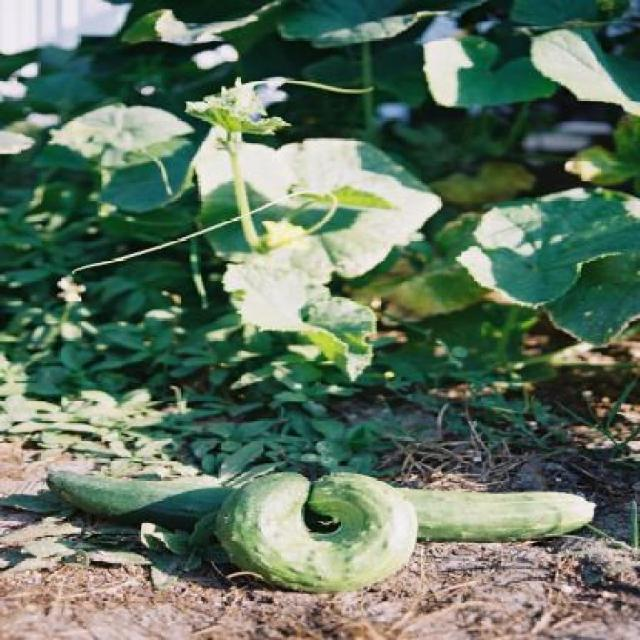Cucumber: (44, 468, 598, 594)
